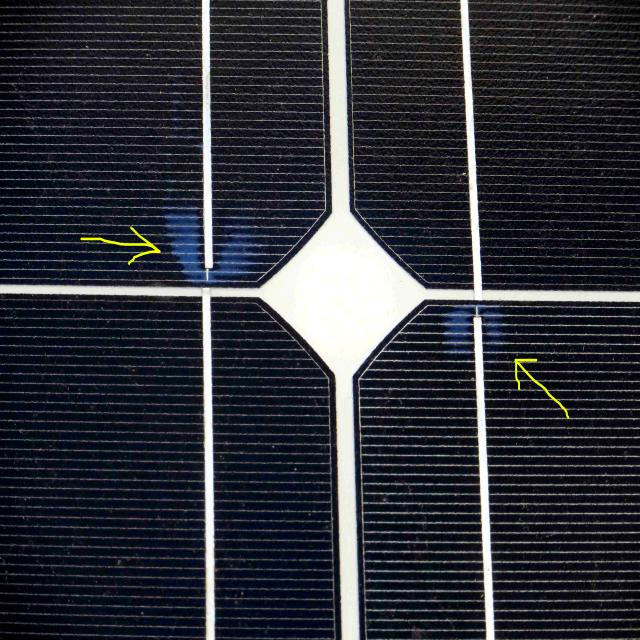shadow: (160, 177, 269, 283), (436, 269, 509, 368)
